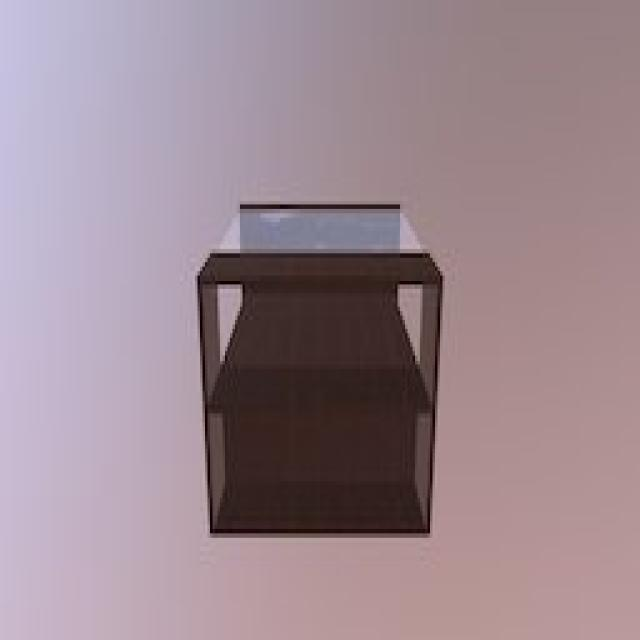table: (195, 196, 446, 534)
